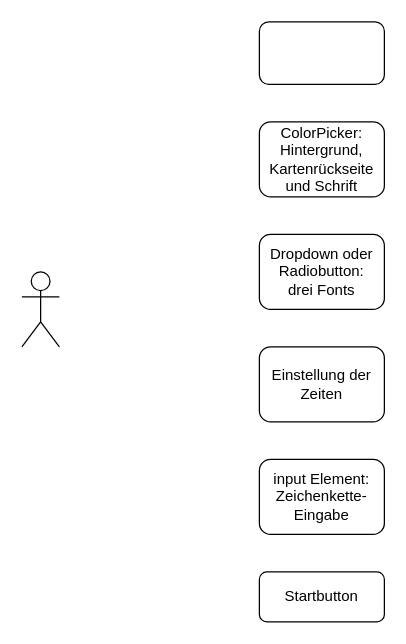
Some shapes in this 406 by 644 pixel diagram are drawn without their labels. The shapes that lost their labels are listed below. From the top down, each one's centre as x and y in pixels, then its label:
point (321, 52): Slider: Farbe der Karte wählen
point (40, 309): Actor
